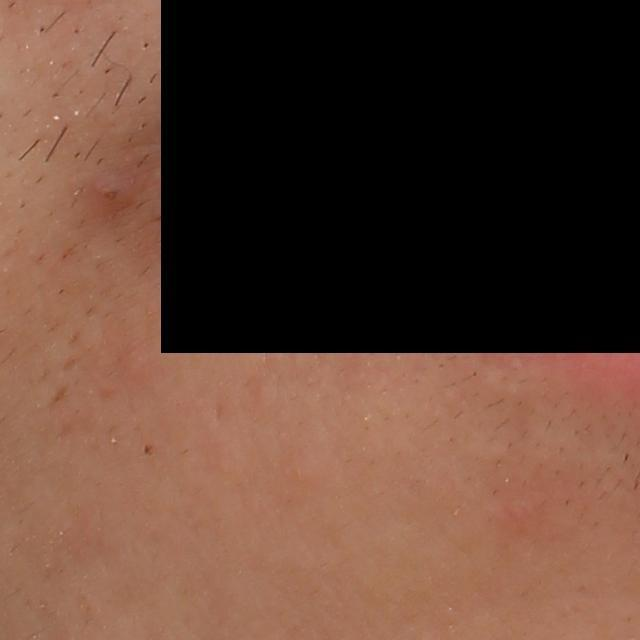papule: (79, 167, 136, 216)
